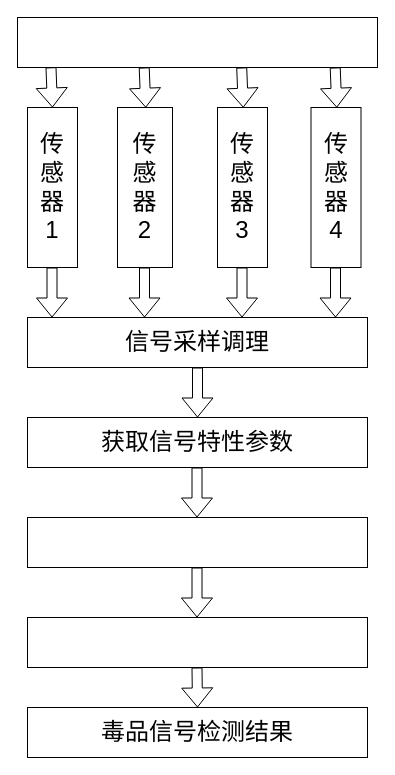
Image size: 395x775. Some labels were removed from this diagram. Here are the shapes that lost their labels. From the top down, the centre of each, then its label:
point (197, 42): 待测气体
point (197, 542): 数据预处理，特征提取
point (197, 642): 本课题算法计算鉴定
